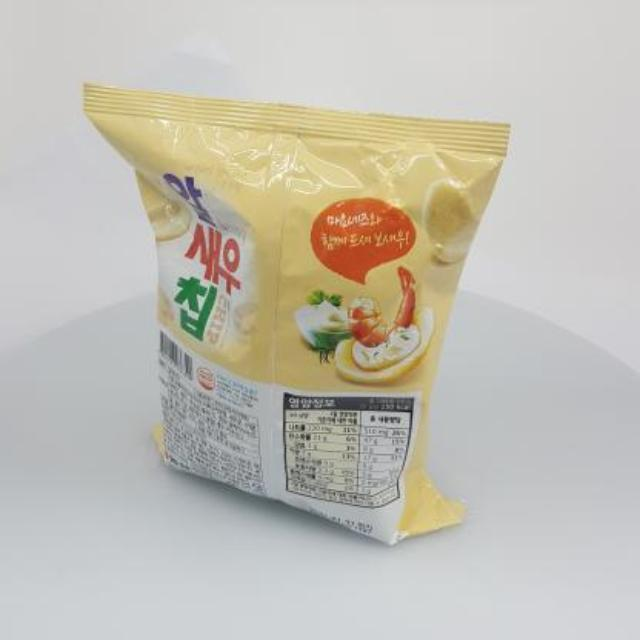snack_bag: (64, 67, 520, 556)
